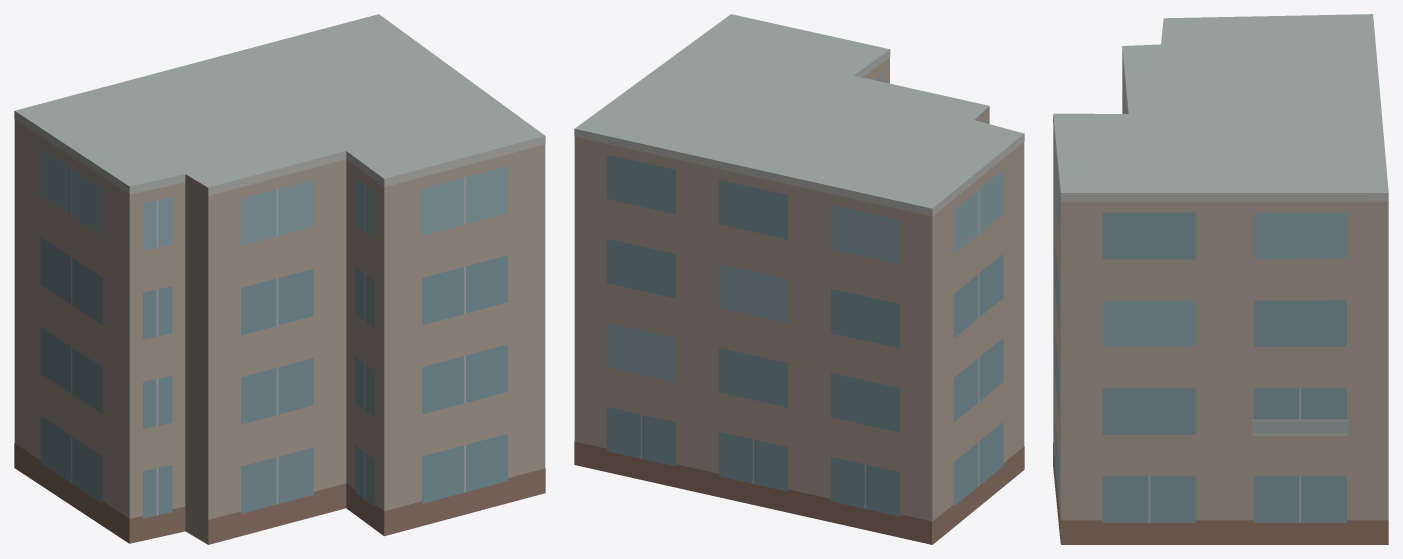
Rendered from survey-upis-33046136.glb.
3 renders of one model, left to right at view 1: azimuth 30°, elevation 25°; view 2: azimuth 150°, elevation 25°; view 3: azimuth 270°, elevation 25°, orthographic. The views are drawn at different scales.
Visible parts, largest first — view 1: survey-upis-33046136.tmp; view 2: survey-upis-33046136.tmp; view 3: survey-upis-33046136.tmp.
Part boxes in pixels (x1,y1,x2,y2): survey-upis-33046136.tmp: (14, 14, 545, 544); survey-upis-33046136.tmp: (574, 14, 1024, 544); survey-upis-33046136.tmp: (1053, 14, 1388, 544).
Size of the model in its own units: 11.5 by 10.5 by 9.09.
